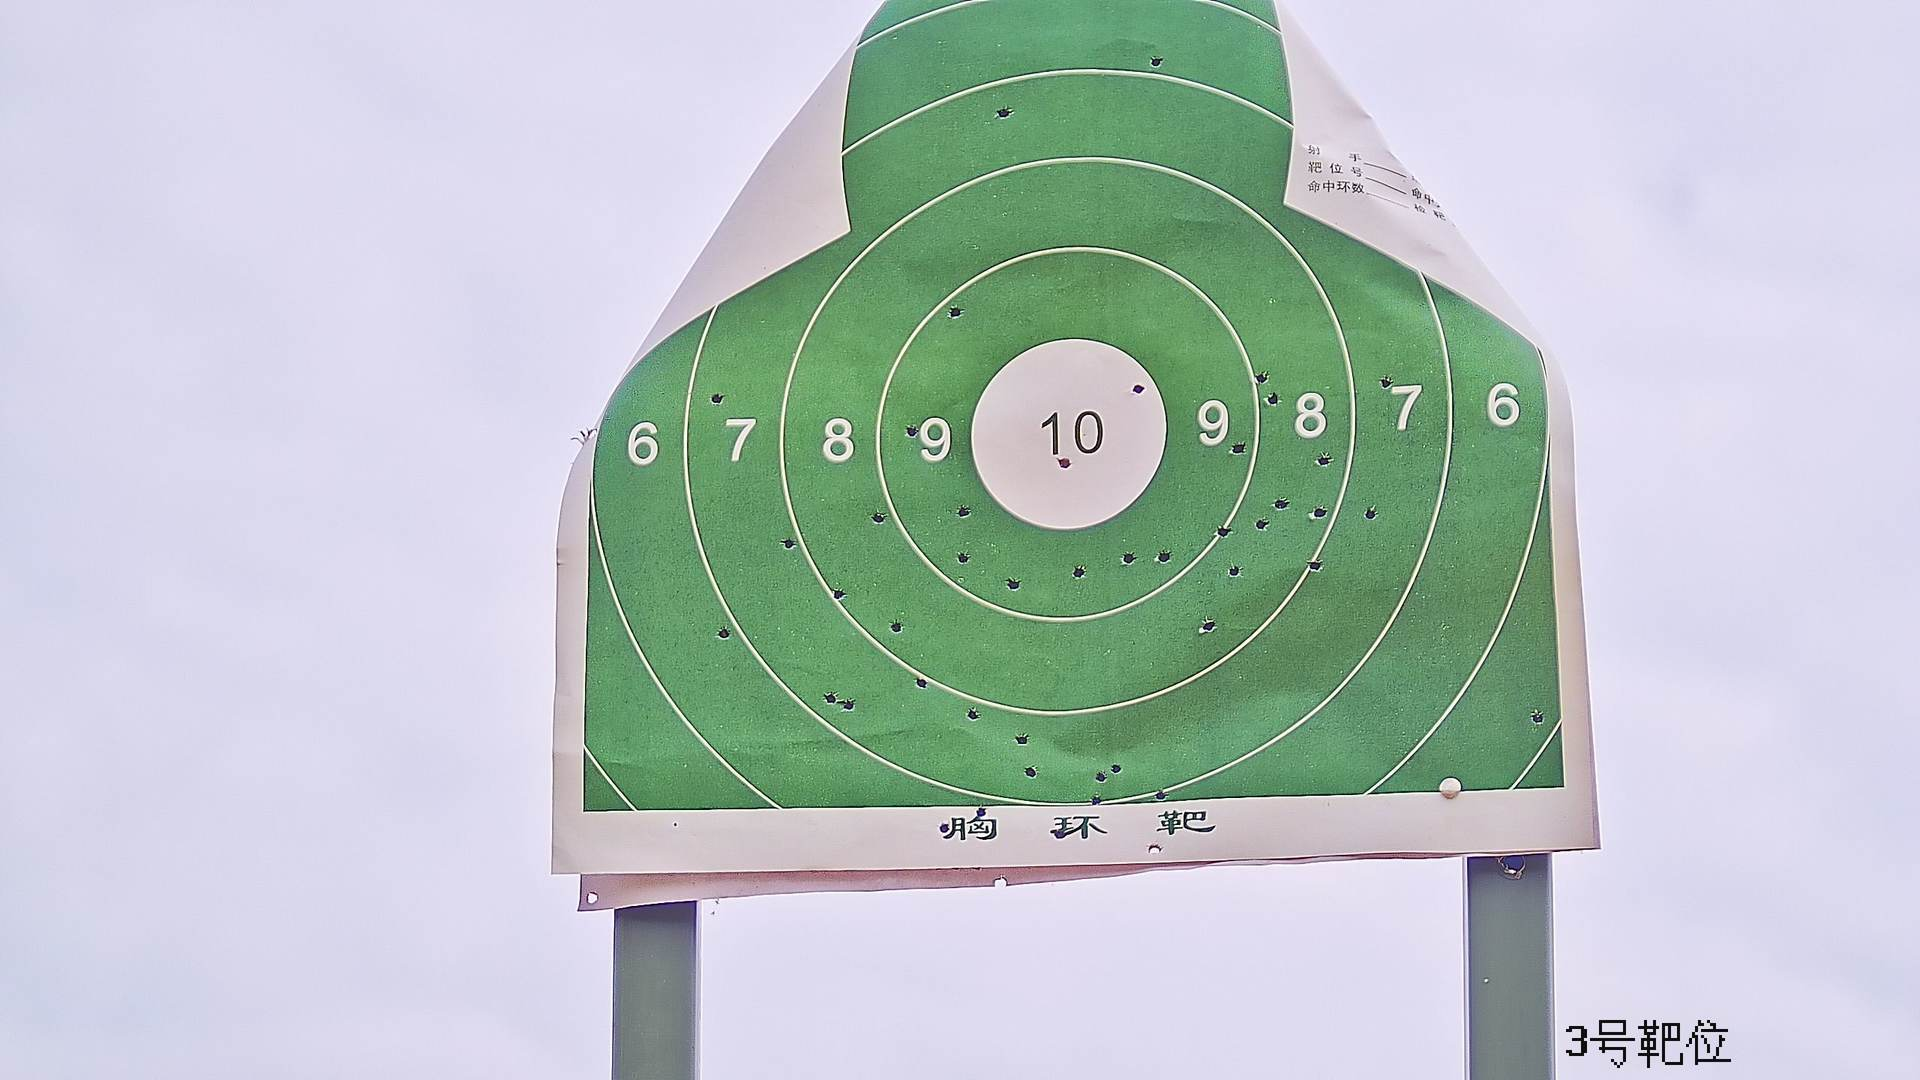hole: (1200, 618, 1218, 636), (1313, 454, 1335, 468), (1254, 517, 1273, 533), (1215, 524, 1233, 539), (996, 105, 1013, 121), (1311, 504, 1328, 520), (1309, 558, 1327, 574), (1071, 564, 1088, 580), (1054, 454, 1071, 469), (1253, 371, 1270, 385), (1232, 440, 1244, 460), (1147, 843, 1162, 858), (781, 535, 796, 550), (1130, 382, 1147, 396), (1014, 733, 1031, 746), (955, 504, 972, 517), (1122, 551, 1134, 570), (1007, 575, 1022, 589), (948, 302, 963, 316), (1228, 563, 1241, 579), (1156, 549, 1170, 564), (1025, 764, 1038, 779), (955, 550, 971, 563), (831, 587, 847, 600), (1378, 375, 1393, 388), (1362, 506, 1375, 521), (1052, 825, 1065, 840), (975, 804, 989, 818), (915, 674, 928, 688), (891, 618, 905, 633), (872, 510, 886, 524), (823, 690, 836, 704), (716, 626, 731, 640), (709, 392, 723, 405), (1534, 712, 1545, 727), (1274, 496, 1288, 508), (939, 820, 951, 835), (967, 705, 978, 720), (1095, 769, 1105, 785), (905, 423, 916, 436), (843, 699, 855, 712), (1149, 55, 1160, 67), (1155, 789, 1166, 802), (1091, 794, 1101, 806), (1269, 392, 1278, 405), (1112, 764, 1122, 773)
kernel: (1067, 429, 1069, 438)
target: (580, 3, 1565, 814)
ten: (972, 334, 1168, 531)
